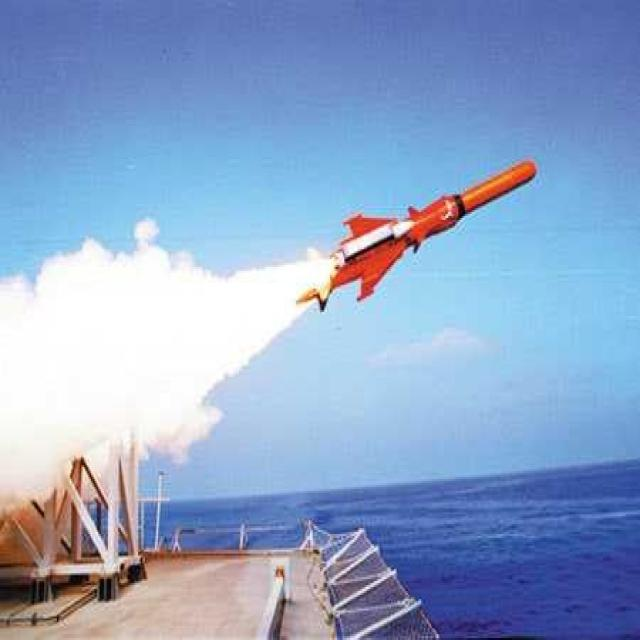missile: (294, 154, 538, 302)
